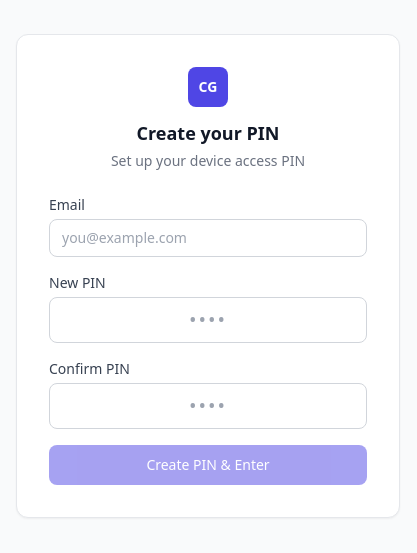
Test: registration: non-4-digit PIN shows error
Type "test@test.com" into the field labelled "Email" at (208, 238), box [49,219,367,257]
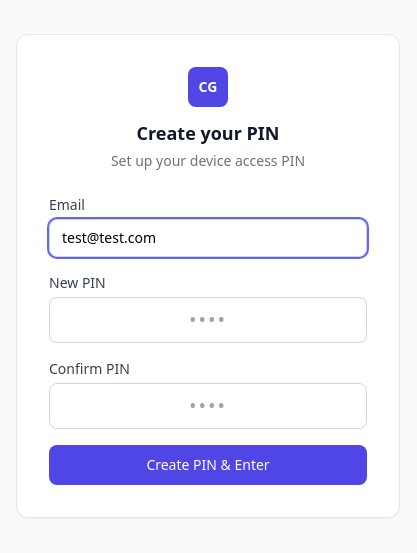
Type "12" into the password field labelled "New PIN" at (208, 320), box [49,297,367,343]
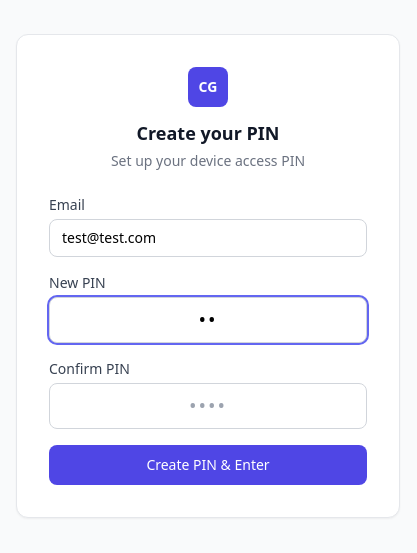
Type "12" into the password field labelled "Confirm PIN" at (208, 406), box [49,383,367,429]
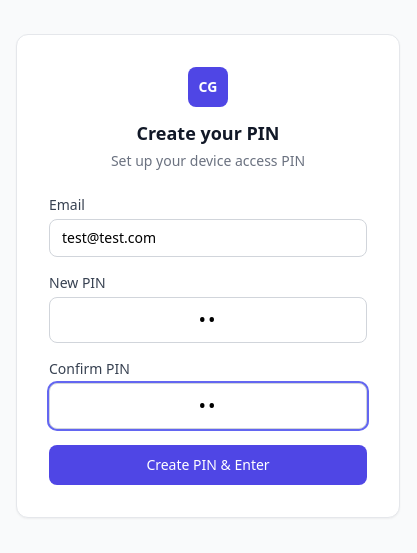
Click the button "Create PIN & Enter" at (208, 465), box [49,445,367,485]
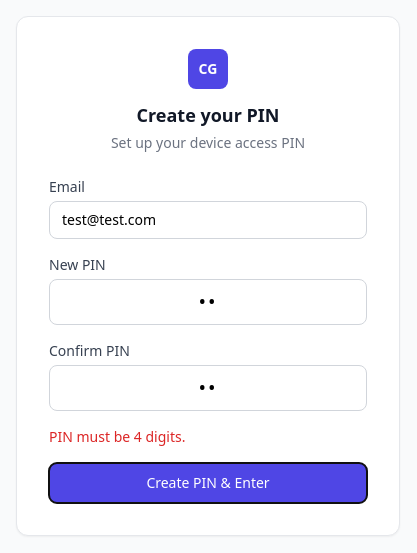
Check: the message shows "PIN must be 4 digits", box [49,427,185,446]
